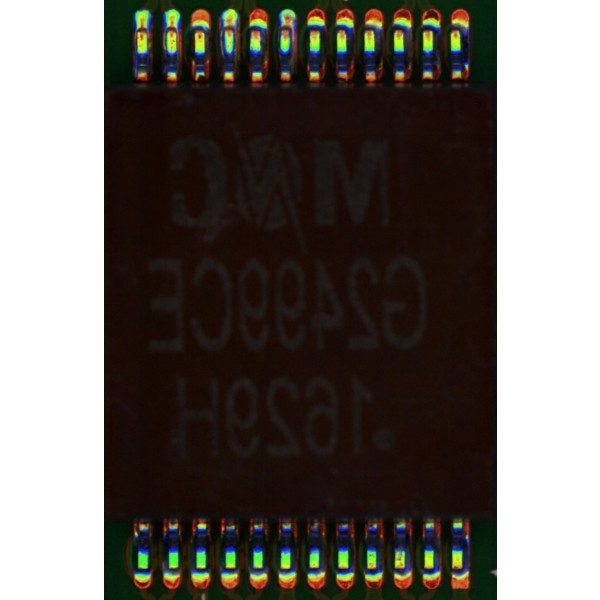Bad_podu: (138, 18, 146, 40), (225, 20, 234, 36), (281, 20, 291, 34), (168, 18, 175, 36)
